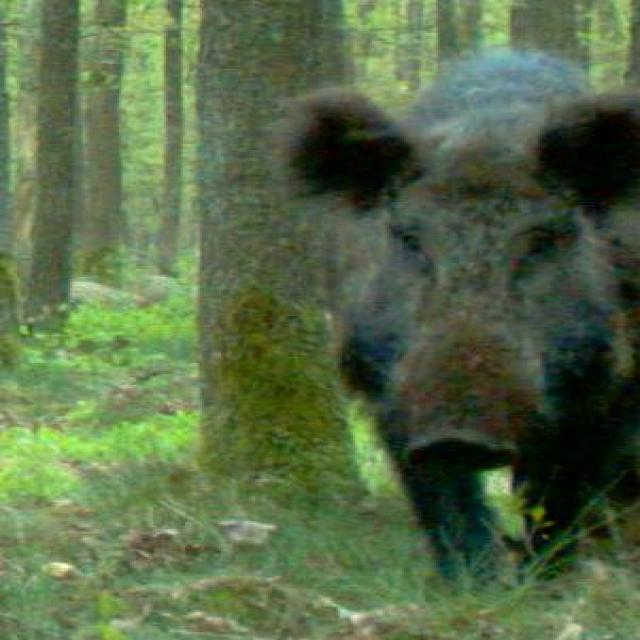pig: (300, 48, 640, 578)
